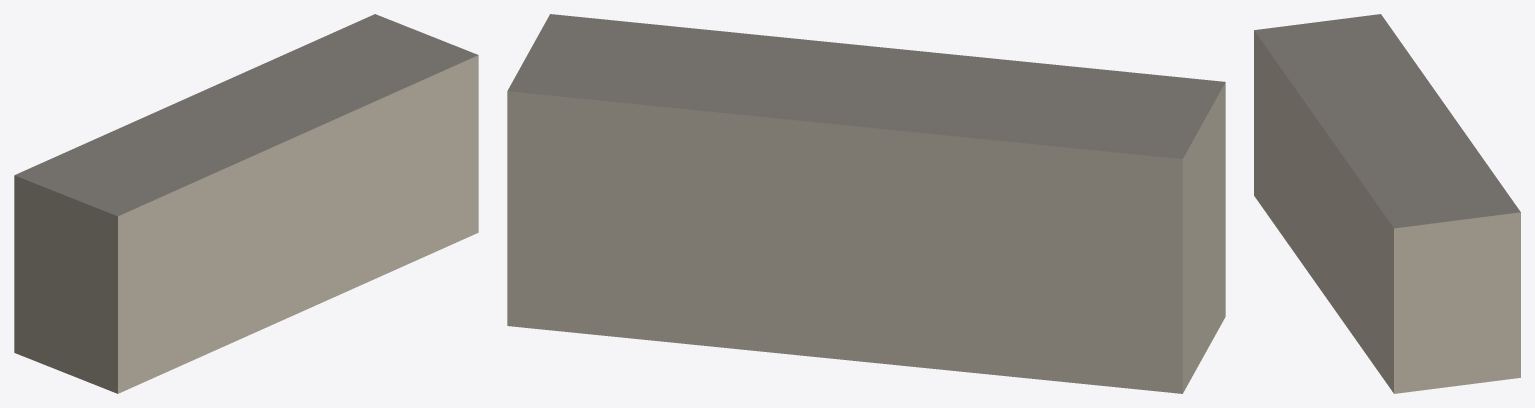
3 renders of one model, left to right at view 1: azimuth 30°, elevation 25°; view 2: azimuth 150°, elevation 25°; view 3: azimuth 270°, elevation 25°, orthographic. The views are drawn at different scales.
Visible parts, largest first — view 1: HP-w380339925; view 2: HP-w380339925; view 3: HP-w380339925.
Part boxes in pixels (box(x1,y1,x2,y2)): HP-w380339925: box(14, 14, 478, 393); HP-w380339925: box(507, 14, 1225, 393); HP-w380339925: box(1254, 14, 1520, 393).
Size of the model in its own units: 50.01 by 18 by 26.3.
